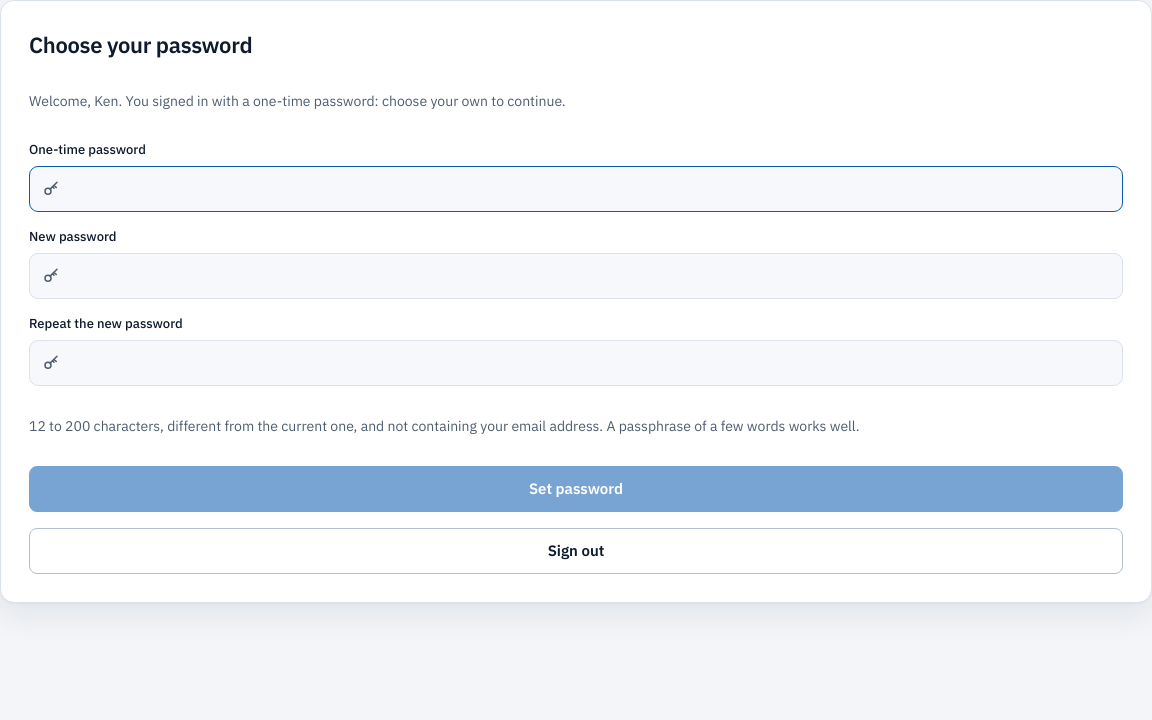
ChangePassword › says how long a password must be before sending
Type "abcd-efgh-jkmn-pqrs" into the password field labelled "One-time password" at coordinates (591, 189), box [60,167,1122,211]
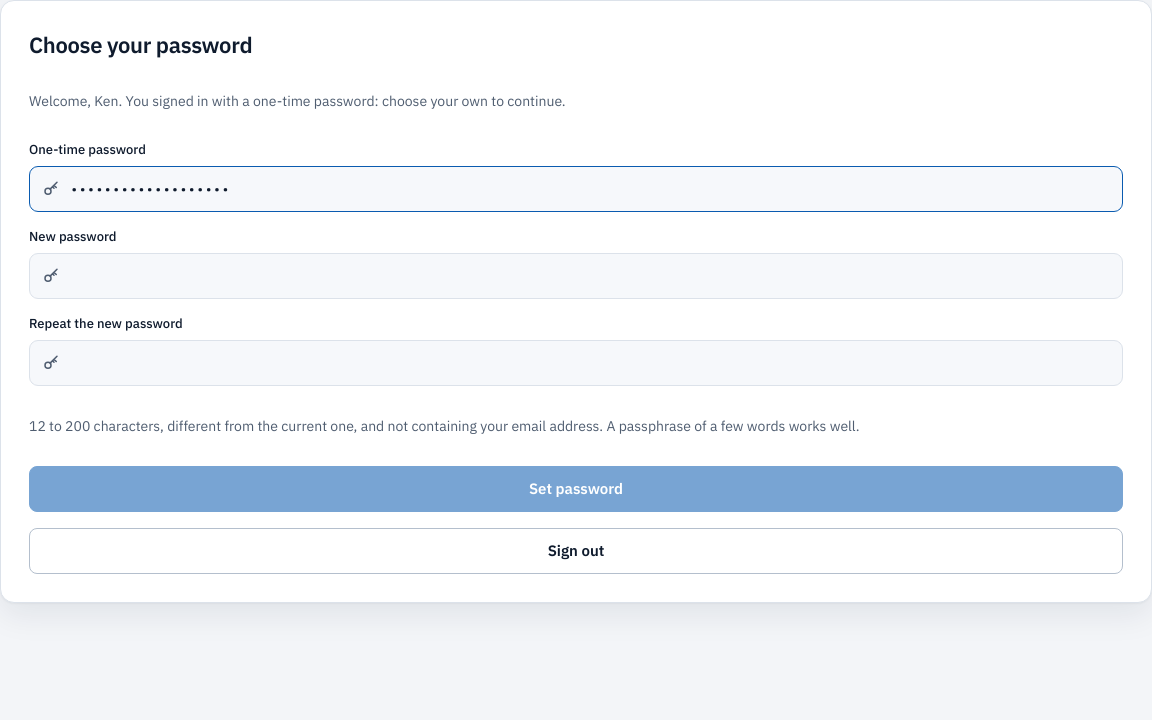
Type "aaaaaaaaaaa" into the password field labelled "New password" at coordinates (591, 276), box [60,254,1122,298]
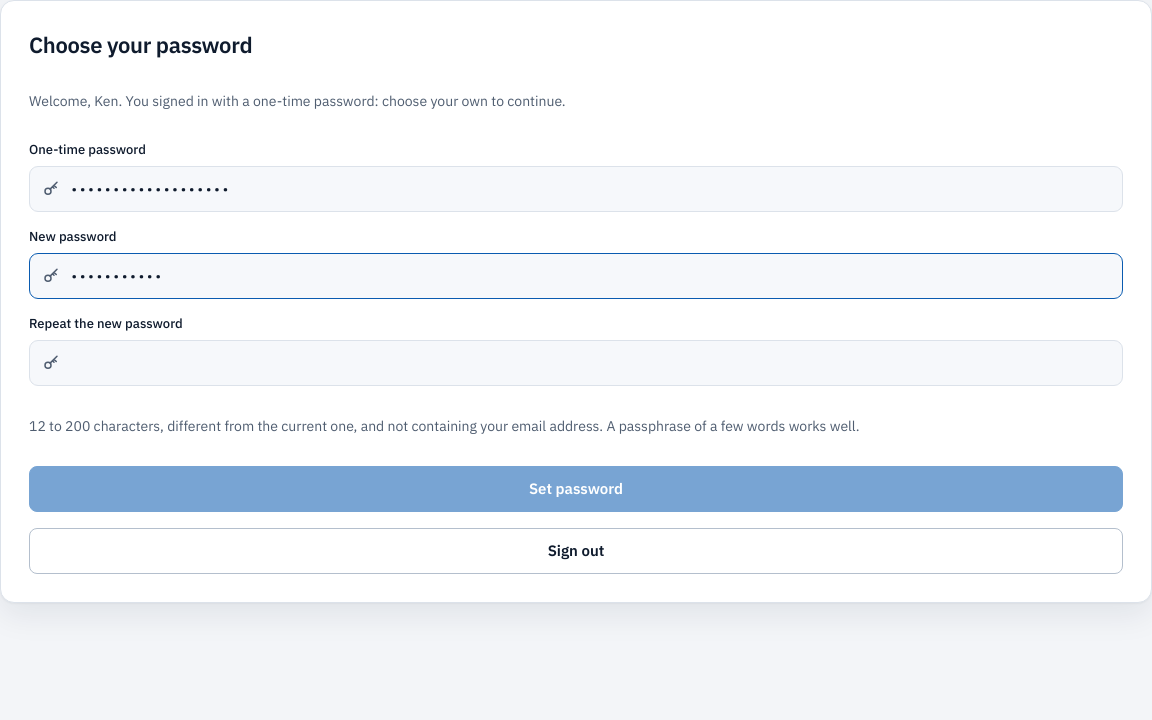
Type "aaaaaaaaaaa" into the password field labelled "Repeat the new password" at coordinates (591, 363), box [60,341,1122,385]
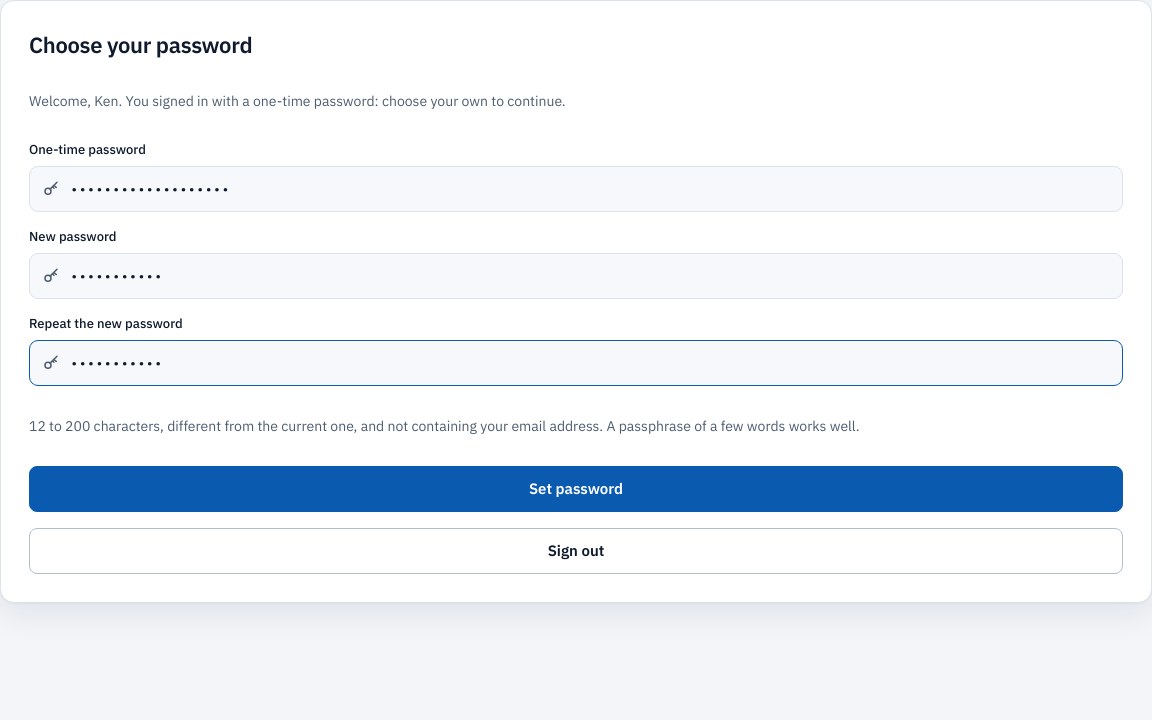
Click the button "Set password" at coordinates (576, 489), box [29,466,1123,512]
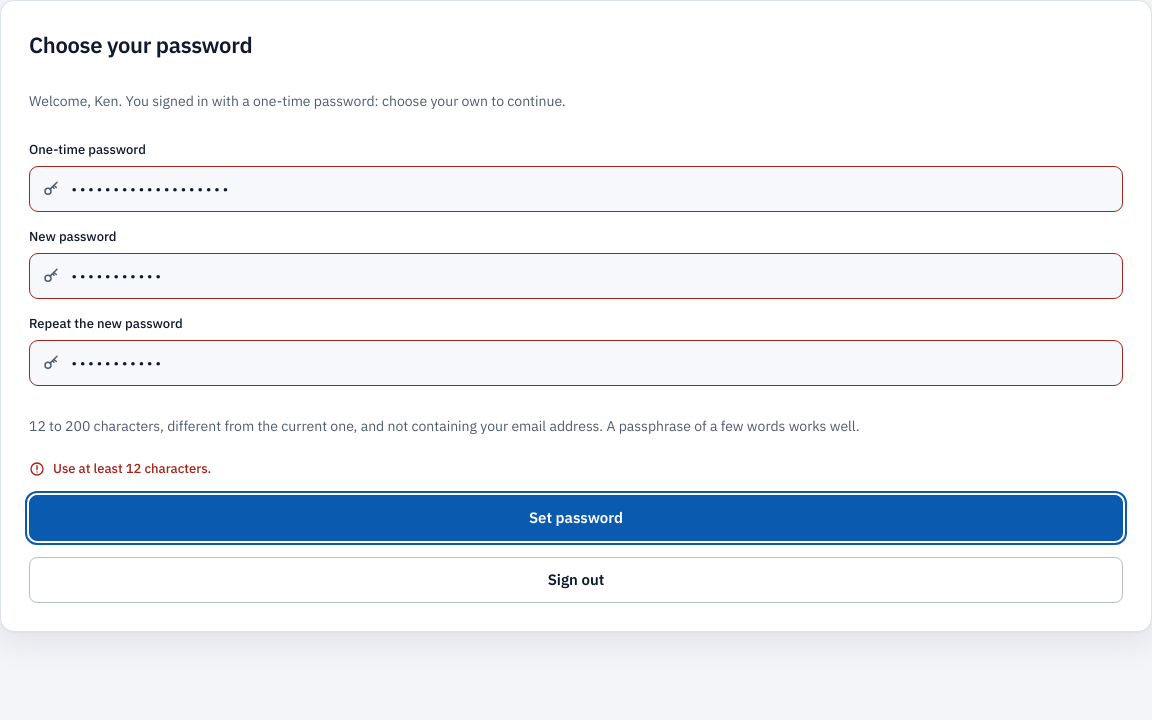
Expected: the message reads "Use at least 12 characters.", [53,460,211,477]
